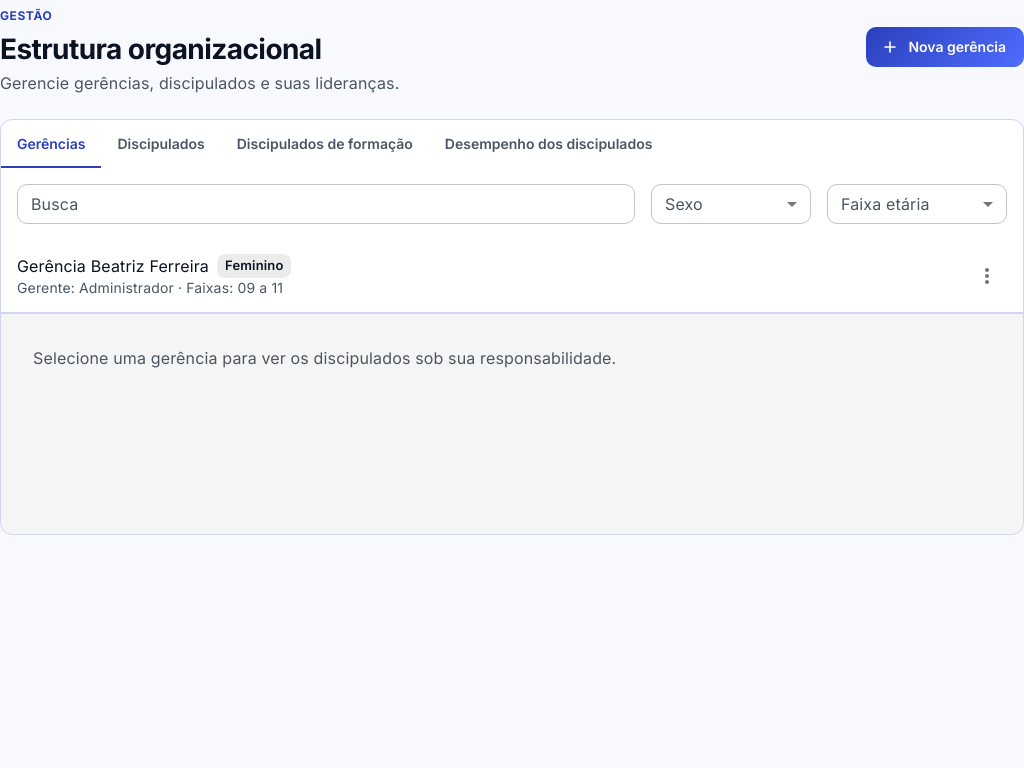
estrutura organizacional — co-líderes › avisa quando a gerência ainda possui discipulados associados
Click the button named "Ações de Gerência Beatriz Ferreira" at (987, 276), box [967,256,1007,296]
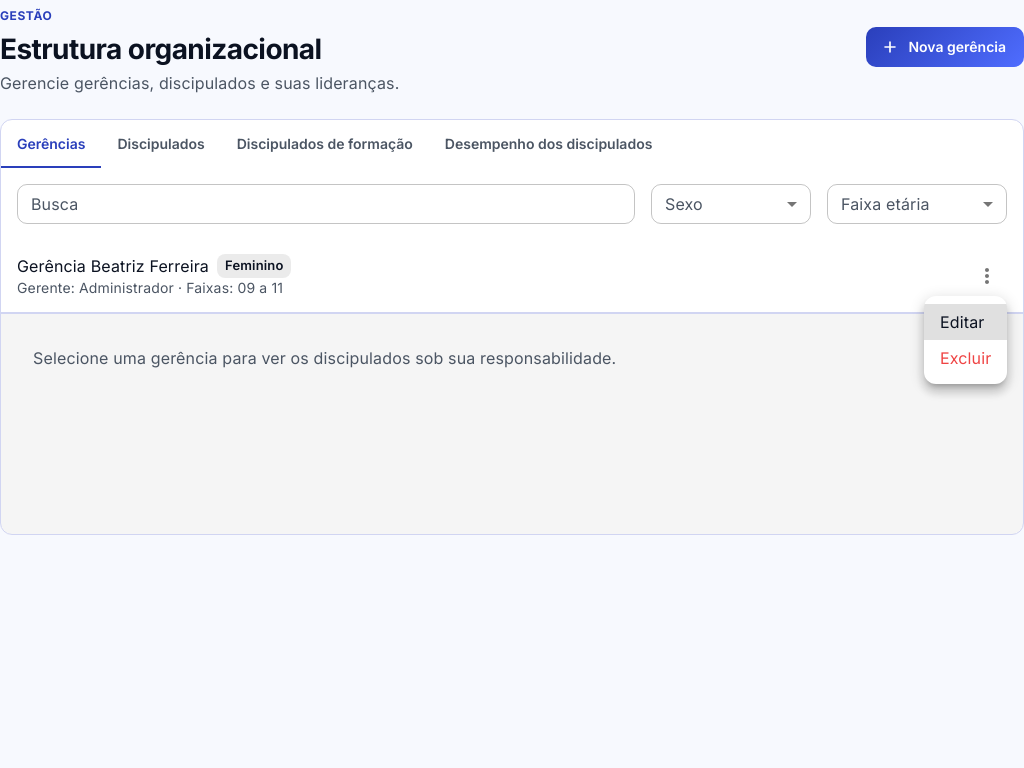
Click the menu item "Excluir" at (966, 358), box [940,348,991,368]
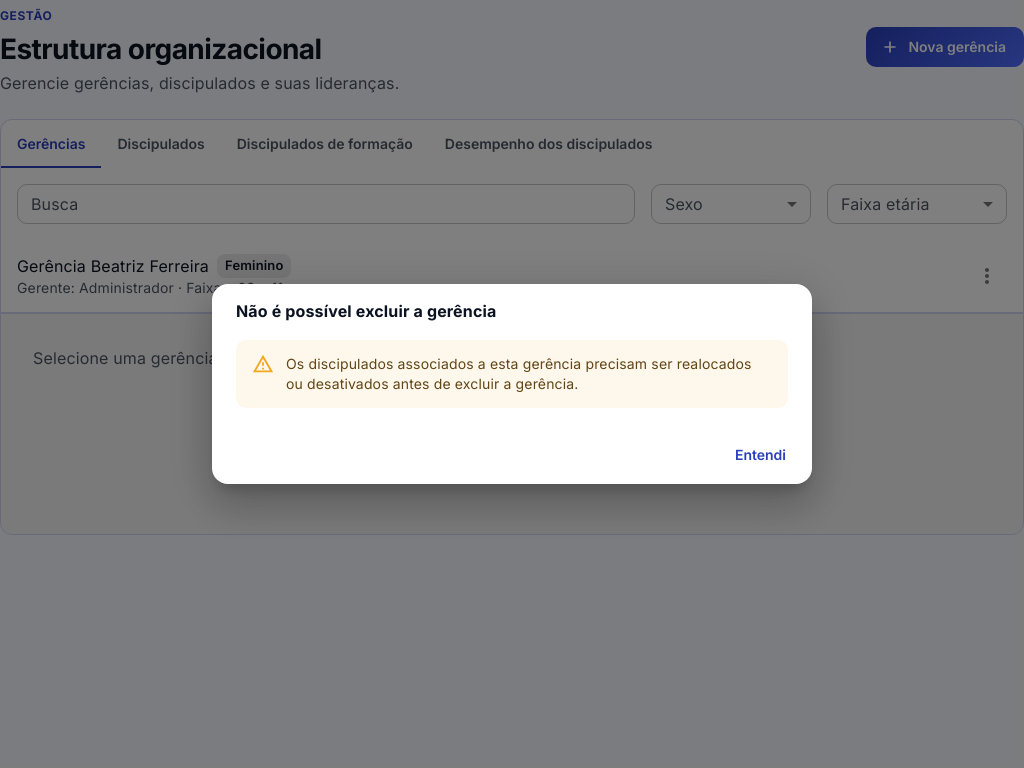
Now the heading "Não é possível excluir a gerência" is shown, box [236,301,496,321]
Now the text "Os discipulados associados a esta gerência precisam ser realocados ou desativados antes de excluir a gerência." is shown, box [286,355,752,392]
